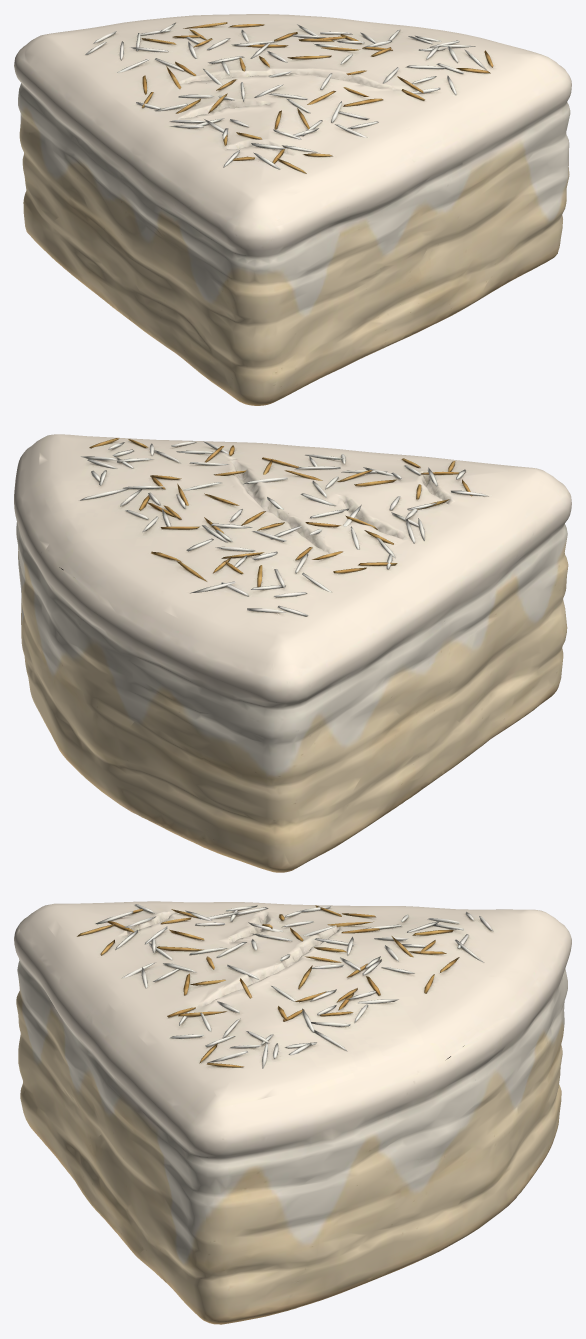
Rendered from scone--coconut-dried.glb.
3 views of the same model, one above another, from view 1: azimuth 30°, elevation 25°; view 2: azimuth 150°, elevation 25°; view 3: azimuth 270°, elevation 25° (orthographic). The views are drawn at different scales.
Parts seen in each view (by area): view 1: scone_coconut-dried; view 2: scone_coconut-dried; view 3: scone_coconut-dried.
Part boxes in pixels (x1,y1,x2,y2): scone_coconut-dried: (14, 14, 571, 405); scone_coconut-dried: (14, 434, 571, 872); scone_coconut-dried: (14, 901, 571, 1324).
Bounding box in the file's own units: 0.9401 × 0.4728 × 0.9823.
Materials: 1 (1 with a texture image).
